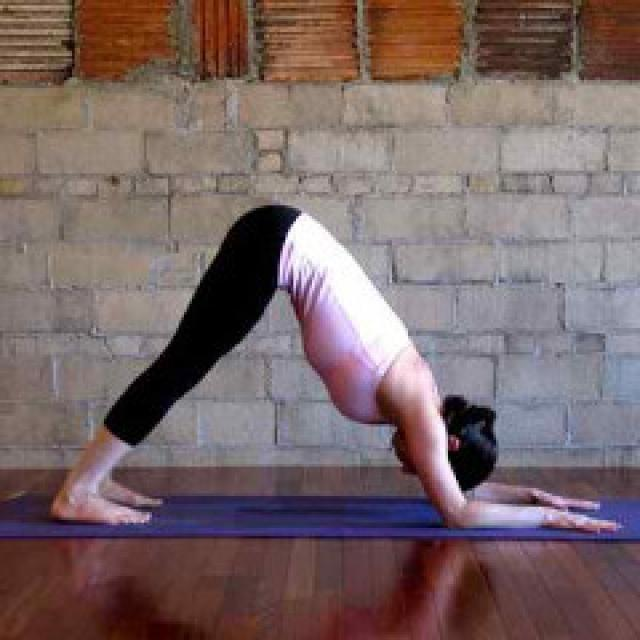yoga-pose downward: (52, 200, 585, 542)
